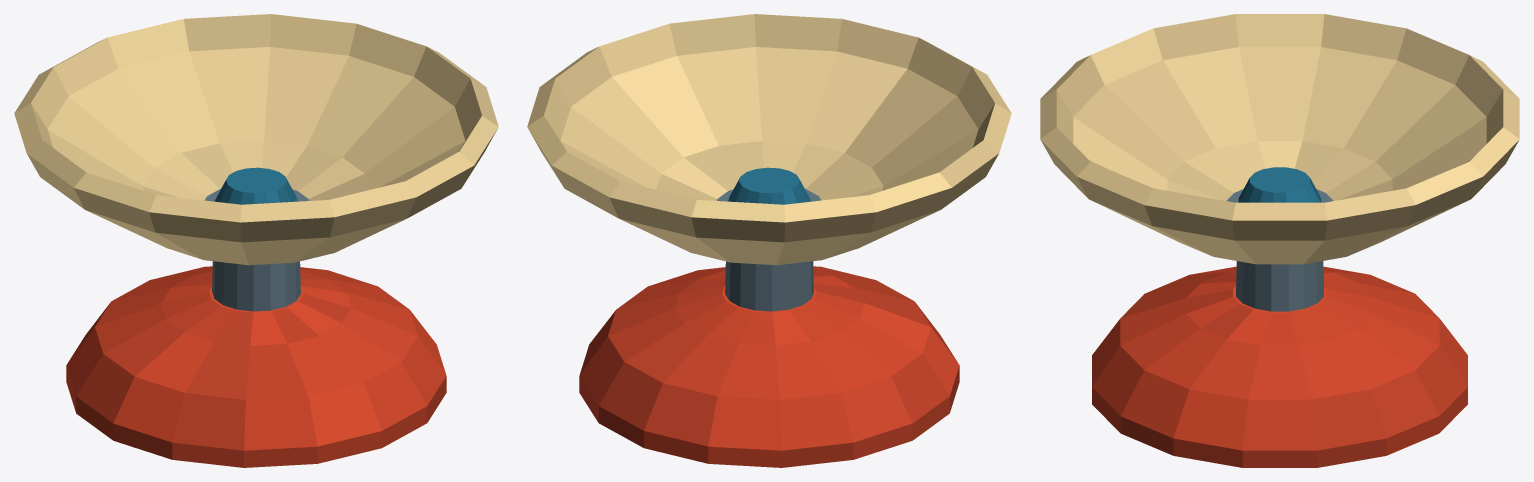
File: ER_PetalAntennaCap.fbx
3 renders of one model, left to right at view 1: azimuth 30°, elevation 25°; view 2: azimuth 150°, elevation 25°; view 3: azimuth 270°, elevation 25°, orthographic.
Visible parts, largest first — view 1: ER_PetalAntennaCap; view 2: ER_PetalAntennaCap; view 3: ER_PetalAntennaCap.
Part boxes in pixels (bbox=[...]): ER_PetalAntennaCap: bbox=[14, 14, 498, 467]; ER_PetalAntennaCap: bbox=[527, 14, 1011, 467]; ER_PetalAntennaCap: bbox=[1040, 14, 1519, 467].
Size of the model in its own units: 1 by 0.645 by 1.
